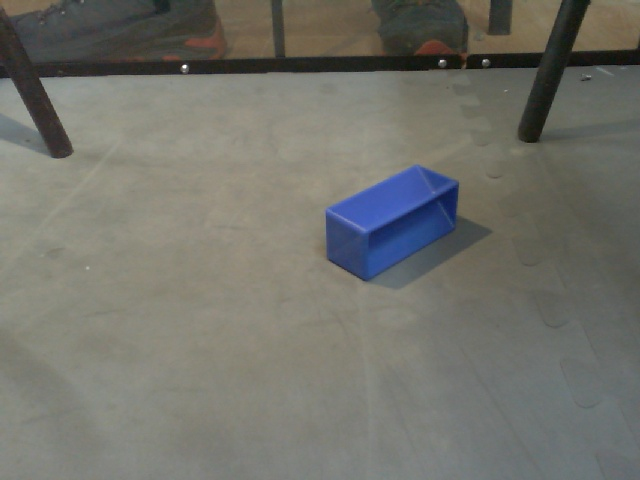BlueSample: (319, 162, 463, 284)
